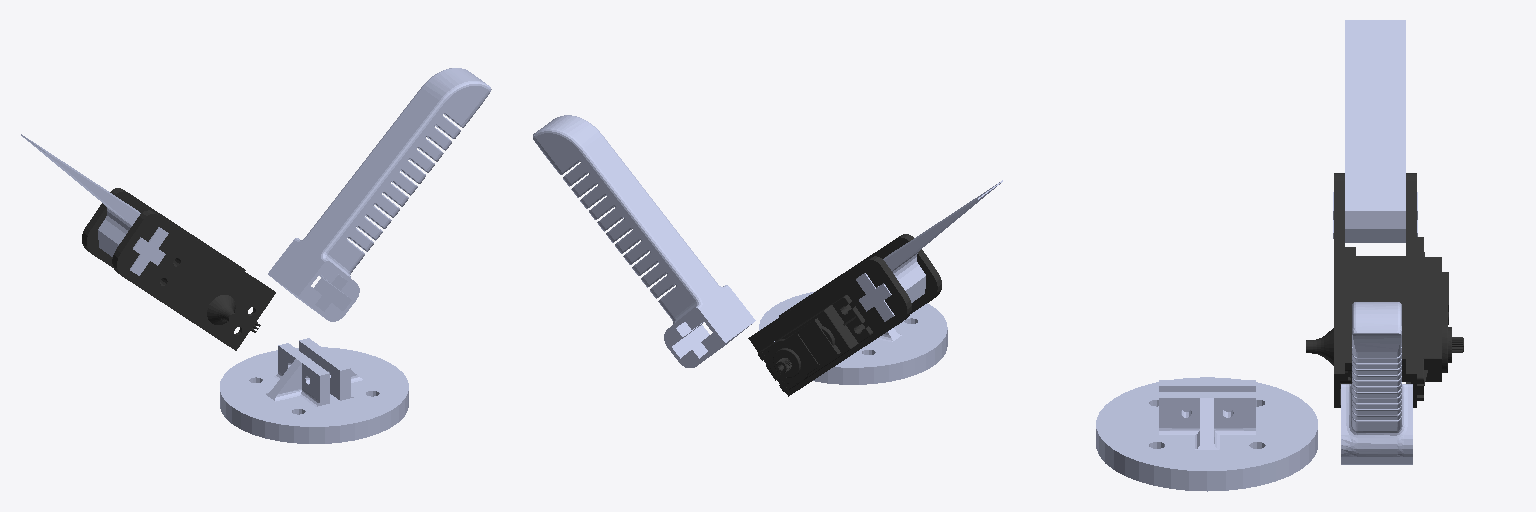
robot.urdf — soft hybrid gripper urdf:
<?xml version="1.0" encoding="utf-8"?>
<!-- This URDF was automatically created by SolidWorks to URDF Exporter! Originally created by [author] ([email redacted]) 
     Commit Version: 1.5.1-0-g916b5db  Build Version: 1.5.7152.31018
     For more information, please see http://wiki.ros.org/sw_urdf_exporter -->
<robot
  name="soft hybrid gripper urdf">
  <link
    name="base_link">
    <inertial>
      <origin
        xyz="0.000145101013892542 -0.00378632233575341 0.0059852456265876"
        rpy="0 0 0" />
      <mass
        value="0.148725082232704" />
      <inertia
        ixx="0.000369365327864119"
        ixy="1.72344899482905E-05"
        ixz="6.18058496061373E-06"
        iyy="7.90668071224765E-05"
        iyz="-2.47099404881235E-05"
        izz="0.000422474789754775" />
    </inertial>
    <visual>
      <origin
        xyz="0 0 0"
        rpy="0 0 0" />
      <geometry>
        <mesh
          filename="package://hybrid_gripper_cam/meshes/base_link.STL" />
      </geometry>
      <material
        name="">
        <color
          rgba="0.792156862745098 0.819607843137255 0.933333333333333 1" />
      </material>
    </visual>
    <collision>
      <origin
        xyz="0 0 0"
        rpy="0 0 0" />
      <geometry>
        <mesh
          filename="package://hybrid_gripper_cam/meshes/base_link.STL" />
      </geometry>
    </collision>
  </link>
  <link
    name="rigid_link">
    <inertial>
      <origin
        xyz="-0.00964348839257984 0.00389924825406054 0.00922886431149911"
        rpy="0 0 0" />
      <mass
        value="0.0445322517963871" />
      <inertia
        ixx="1.01728770247328E-05"
        ixy="-4.93649549072555E-08"
        ixz="4.49698471699929E-06"
        iyy="1.35940815749742E-05"
        iyz="3.91281583145286E-08"
        izz="1.15340134179683E-05" />
    </inertial>
    <visual>
      <origin
        xyz="0 0 0"
        rpy="0 0 0" />
      <geometry>
        <mesh
          filename="package://hybrid_gripper_cam/meshes/rigid_link.STL" />
      </geometry>
      <material
        name="">
        <color
          rgba="0.250980392156863 0.250980392156863 0.250980392156863 1" />
      </material>
    </visual>
    <collision>
      <origin
        xyz="0 0 0"
        rpy="0 0 0" />
      <geometry>
        <mesh
          filename="package://hybrid_gripper_cam/meshes/rigid_link.STL" />
      </geometry>
    </collision>
  </link>
  <joint
    name="rigid_rev_joint"
    type="revolute">
    <origin
      xyz="-0.018 0.0604 0.031"
      rpy="0 0 0" />
    <parent
      link="base_link" />
    <child
      link="rigid_link" />
    <axis
      xyz="0 -1 0" />
    <limit
      lower="0"
      upper="0"
      effort="0"
      velocity="0" />
  </joint>
  <link
    name="rigid_tip_link">
    <inertial>
      <origin
        xyz="-0.00774095772540721 0.000849999999999657 -0.0611318896625764"
        rpy="0 0 0" />
      <mass
        value="0.0134476259243688" />
      <inertia
        ixx="4.91541805903651E-06"
        ixy="9.70369871279401E-22"
        ixz="-8.62881671033876E-07"
        iyy="4.67899851023963E-06"
        iyz="-1.43787994485692E-21"
        izz="1.28227238645746E-06" />
    </inertial>
    <visual>
      <origin
        xyz="0 0 0"
        rpy="0 0 0" />
      <geometry>
        <mesh
          filename="package://hybrid_gripper_cam/meshes/rigid_tip_link.STL" />
      </geometry>
      <material
        name="">
        <color
          rgba="0.792156862745098 0.819607843137255 0.933333333333333 1" />
      </material>
    </visual>
    <collision>
      <origin
        xyz="0 0 0"
        rpy="0 0 0" />
      <geometry>
        <mesh
          filename="package://hybrid_gripper_cam/meshes/rigid_tip_link.STL" />
      </geometry>
    </collision>
  </link>
  <joint
    name="rigid_tip_joint"
    type="continuous">
    <origin
      xyz="-0.083663 -0.00085 0.089665"
      rpy="0 -0.86027 0" />
    <parent
      link="rigid_link" />
    <child
      link="rigid_tip_link" />
    <axis
      xyz="0 1 0" />
  </joint>
  <link
    name="soft_tip_link">
    <inertial>
      <origin
        xyz="-0.0672819098084754 -5.77278609914522E-08 -0.00123656065002749"
        rpy="0 0 0" />
      <mass
        value="0.0267549348618611" />
      <inertia
        ixx="2.96189216662522E-06"
        ixy="6.27344819191878E-11"
        ixz="-5.21931039474125E-06"
        iyy="3.93840137119762E-05"
        iyz="-4.51104709693914E-12"
        izz="3.84440209403678E-05" />
    </inertial>
    <visual>
      <origin
        xyz="0 0 0"
        rpy="0 0 0" />
      <geometry>
        <mesh
          filename="package://hybrid_gripper_cam/meshes/soft_tip_link.STL" />
      </geometry>
      <material
        name="">
        <color
          rgba="0.792156862745098 0.819607843137255 0.933333333333333 1" />
      </material>
    </visual>
    <collision>
      <origin
        xyz="0 0 0"
        rpy="0 0 0" />
      <geometry>
        <mesh
          filename="package://hybrid_gripper_cam/meshes/soft_tip_link.STL" />
      </geometry>
    </collision>
  </link>
  <joint
    name="soft_tip_joint"
    type="fixed">
    <origin
      xyz="0.11681 0.061 0.098742"
      rpy="0 -0.66549 0" />
    <parent
      link="base_link" />
    <child
      link="soft_tip_link" />
    <axis
      xyz="0 0 0" />
  </joint>
</robot>

--- What the picture shows (computed from the rendered views, not written in the file) ---
The picture shows the robot from 3 angles, left to right: view 1: azimuth 30°, elevation 25°; view 2: azimuth 150°, elevation 25°; view 3: azimuth 270°, elevation 25°; orthographic projection.
Robot: soft hybrid gripper urdf — 4 links, 3 joints (1 revolute, 1 continuous, 1 fixed); root link base_link; default pose: all joints at 0.
Visible links, largest first — view 1: soft_tip_link, base_link, rigid_link, rigid_tip_link; view 2: soft_tip_link, rigid_link, base_link, rigid_tip_link; view 3: base_link, rigid_tip_link, rigid_link, soft_tip_link.
Boxes of the visible links, box(x1,y1,x2,y2) form: soft_tip_link: box(268, 68, 491, 321); base_link: box(220, 338, 408, 443); rigid_link: box(82, 188, 275, 350); rigid_tip_link: box(21, 134, 168, 275); soft_tip_link: box(533, 115, 755, 367); rigid_link: box(748, 234, 941, 396); base_link: box(759, 291, 947, 384); rigid_tip_link: box(856, 180, 1002, 321); base_link: box(1096, 377, 1317, 491); rigid_tip_link: box(1333, 20, 1417, 242); rigid_link: box(1306, 173, 1463, 407); soft_tip_link: box(1341, 302, 1412, 464).
Size in the robot's own frame: 0.2188 by 0.132 by 0.1207 metres.
4 mesh visuals loaded from 4 distinct referenced files (4 binary STL).